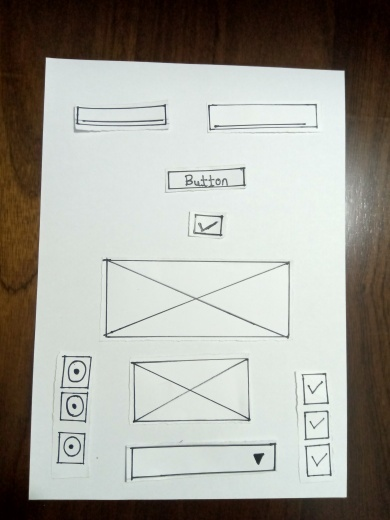button: (169, 170, 246, 188)
checkbox: (299, 375, 332, 405), (302, 444, 335, 474), (299, 409, 332, 439), (193, 218, 225, 232)
dropdown: (128, 449, 275, 478)
img: (103, 260, 289, 339), (133, 362, 250, 418)
radio: (61, 356, 91, 390), (55, 430, 85, 464), (58, 391, 88, 425)
text: (205, 104, 320, 131), (72, 107, 171, 128)
